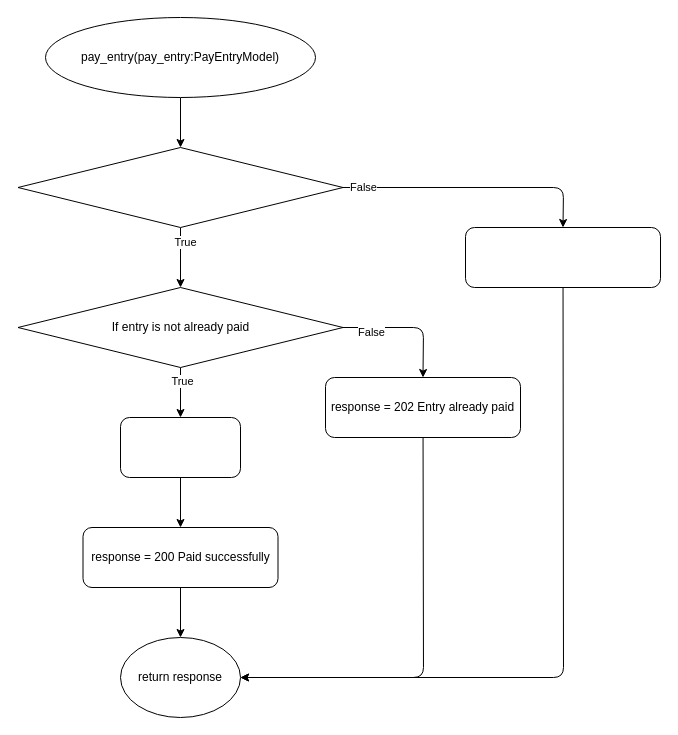
Some shapes in this 678 by 735 pixel diagram are drawn without their labels. The box of each missing label's shape, as (x1, y1, x2, y2) in pixels:
entry.is_paid = True: (120, 416, 240, 478)
If entry with specified ID is in the Database: (17, 146, 343, 228)
response = 400 Entry not found: (464, 226, 660, 288)
